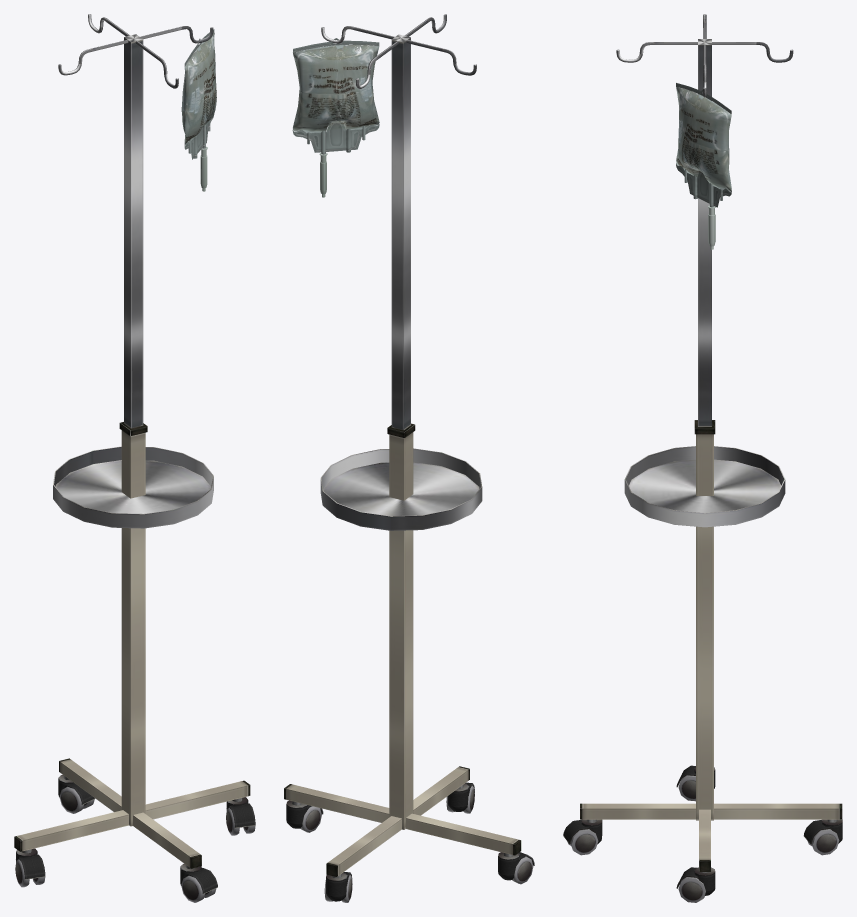
The model's file is Mat-transfu-sodium-hopital_01.FBX.
3 renders of one model, left to right at view 1: azimuth 30°, elevation 25°; view 2: azimuth 150°, elevation 25°; view 3: azimuth 270°, elevation 25°, orthographic.
Visible parts, largest first — view 1: Mat-transfu-sodium-hopital_01; view 2: Mat-transfu-sodium-hopital_01; view 3: Mat-transfu-sodium-hopital_01.
Boxes of the visible parts, x1=… form: Mat-transfu-sodium-hopital_01: x1=14, y1=14, x2=255, y2=902; Mat-transfu-sodium-hopital_01: x1=284, y1=14, x2=534, y2=902; Mat-transfu-sodium-hopital_01: x1=563, y1=14, x2=842, y2=902.
Size of the model in its own units: 55.76 by 58.06 by 185.
3 materials, 3 textured.
